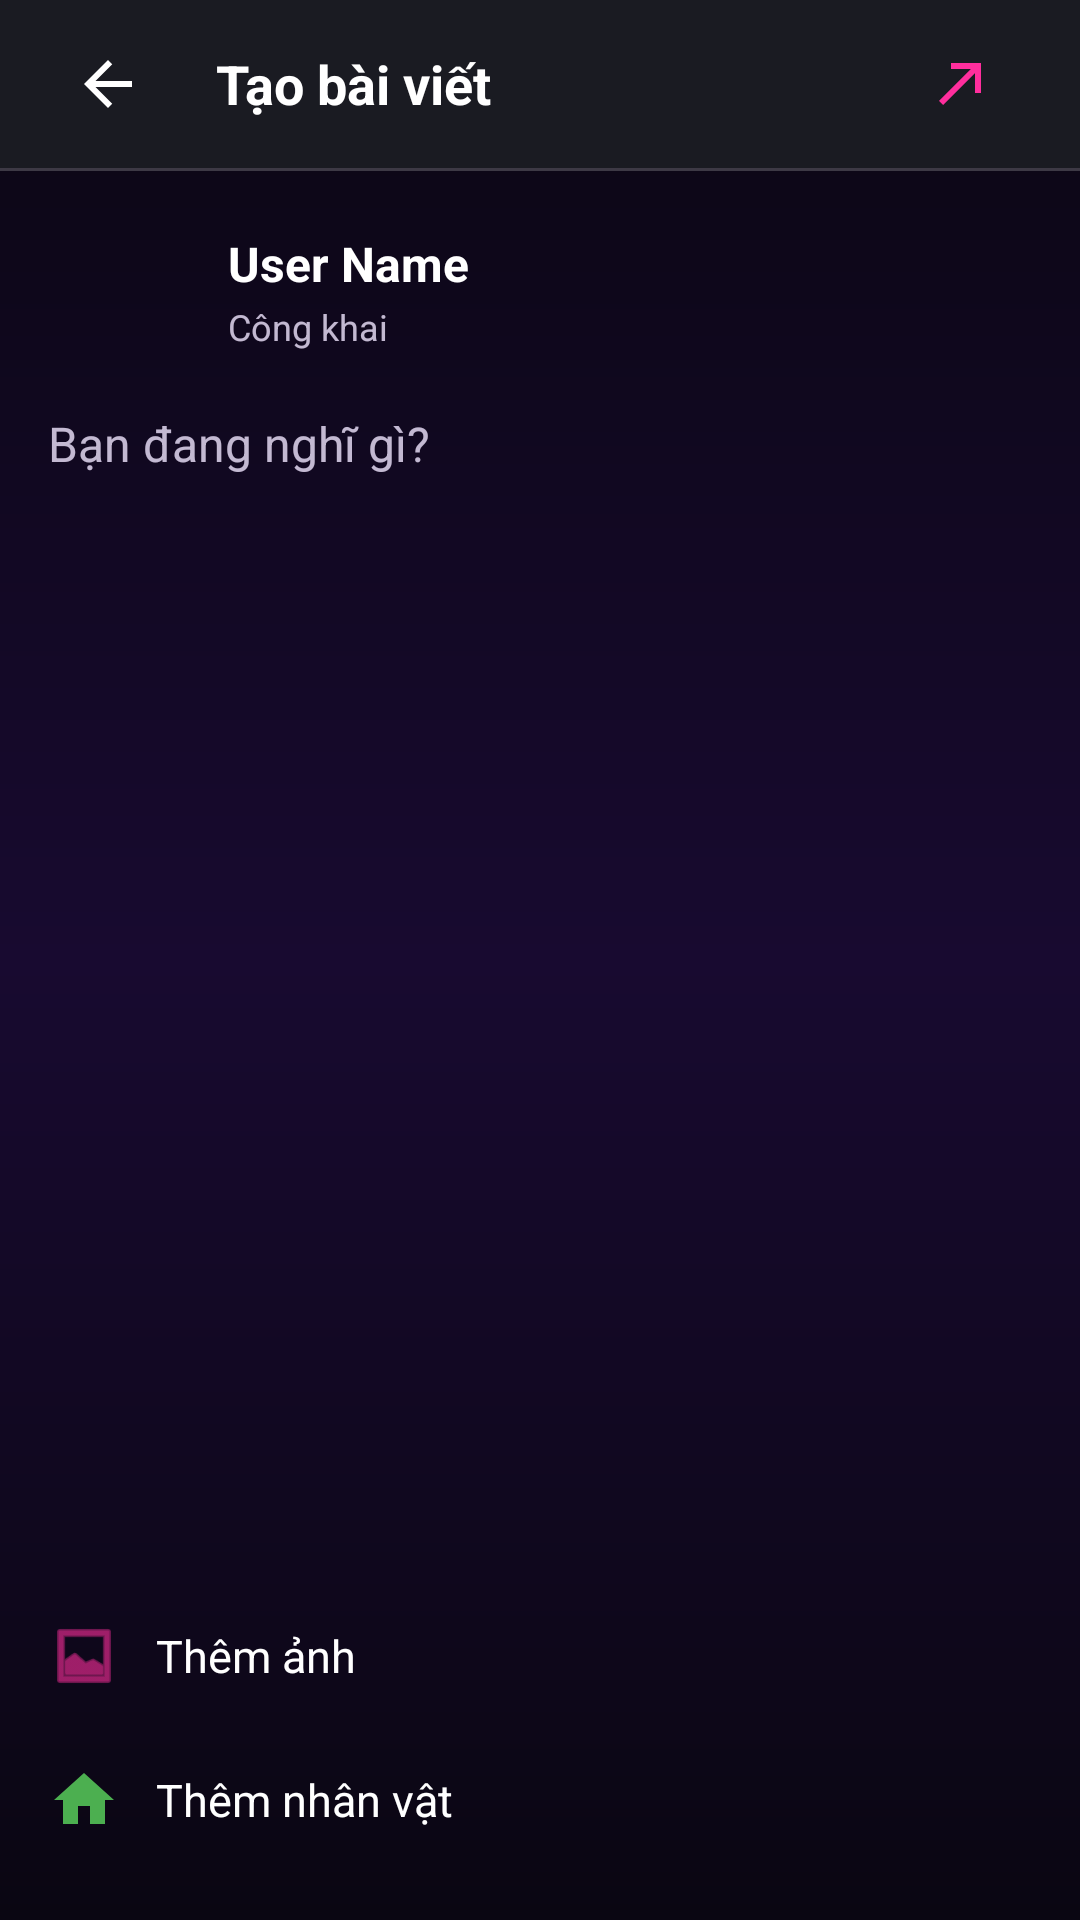

Named icons in this screenshot (1080px x 1920px) and their centers, (x,y):
gallery: (84,1656)
Quay lại: (108,84)
Đăng: (960,84)
